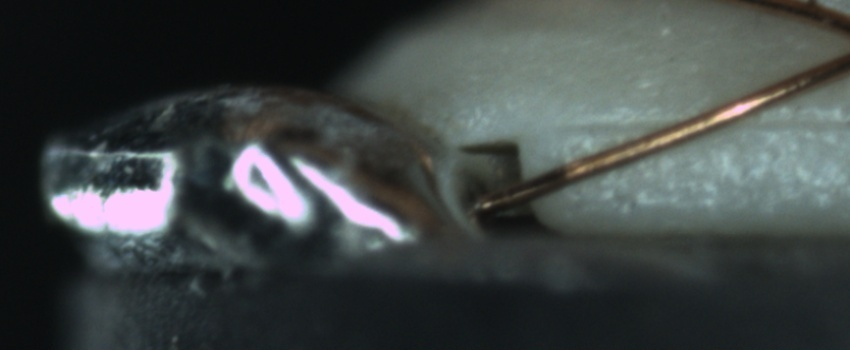DL: (560, 94, 848, 155)
